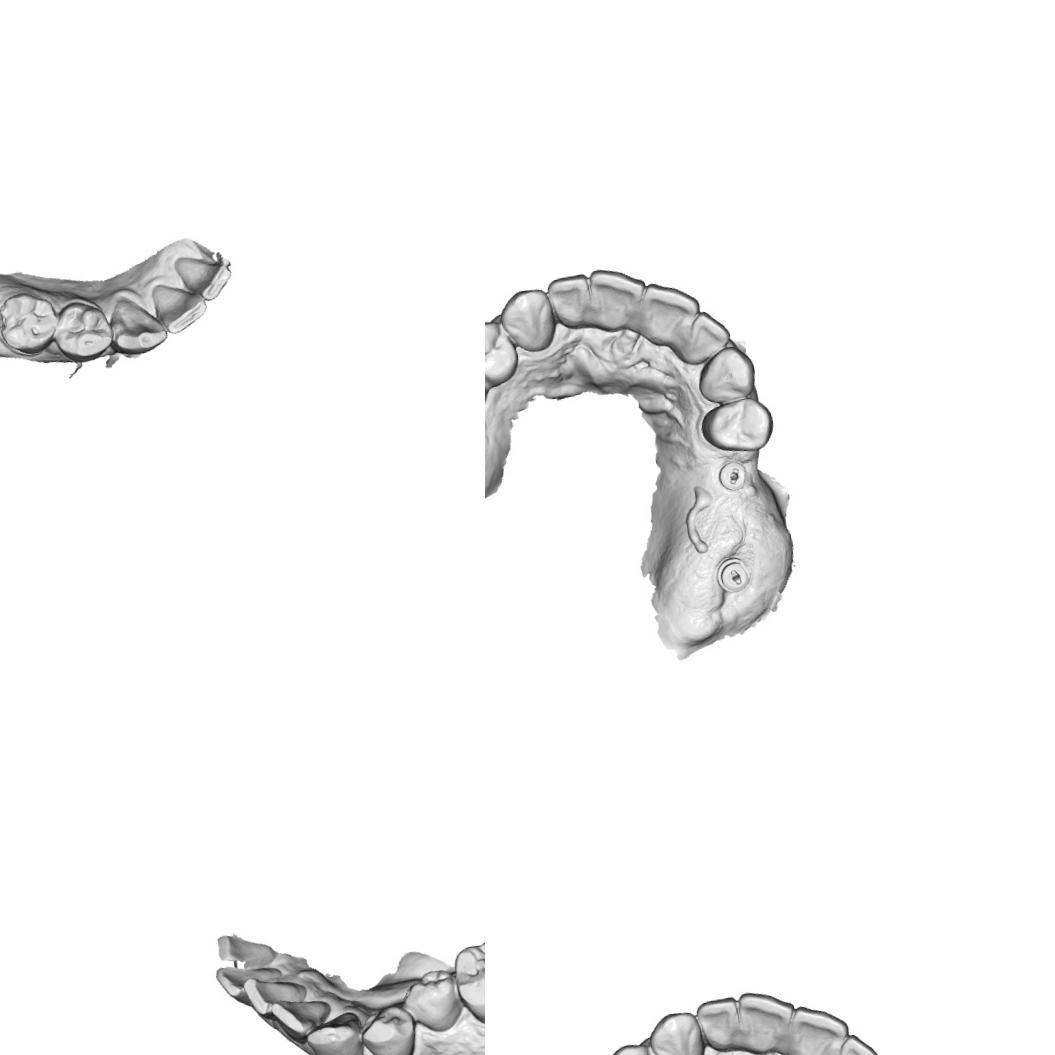canine: (495, 284, 559, 357), (692, 342, 760, 409), (107, 294, 170, 357), (301, 1007, 367, 1055), (644, 1007, 708, 1055)
implant_minus: (712, 554, 752, 596), (716, 456, 752, 494)
incisor: (638, 275, 704, 349), (584, 261, 650, 332), (734, 984, 800, 1055), (265, 992, 338, 1050), (214, 956, 291, 1008), (787, 998, 853, 1055), (241, 968, 312, 1020), (150, 278, 210, 336), (678, 306, 736, 366), (543, 272, 597, 333), (692, 994, 746, 1055), (174, 252, 234, 304), (827, 1029, 884, 1055)
molar: (448, 925, 485, 1029)
premolar: (696, 394, 778, 459), (398, 966, 464, 1038), (49, 296, 116, 364), (0, 288, 61, 359), (355, 1000, 421, 1055), (485, 315, 523, 392), (601, 1038, 672, 1055)
